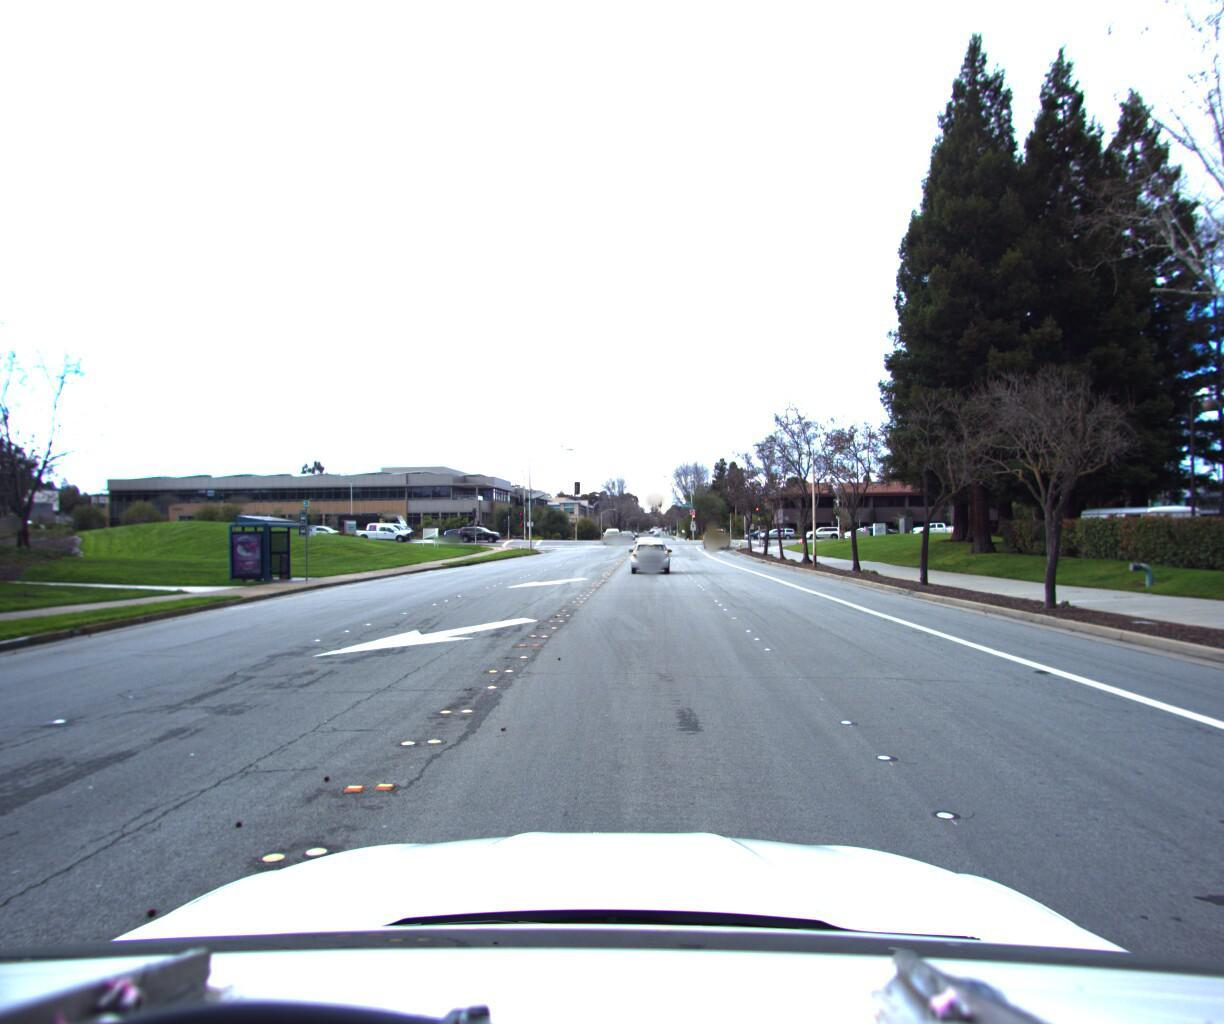car: (627, 533, 672, 573), (699, 523, 730, 548), (603, 526, 622, 543)
